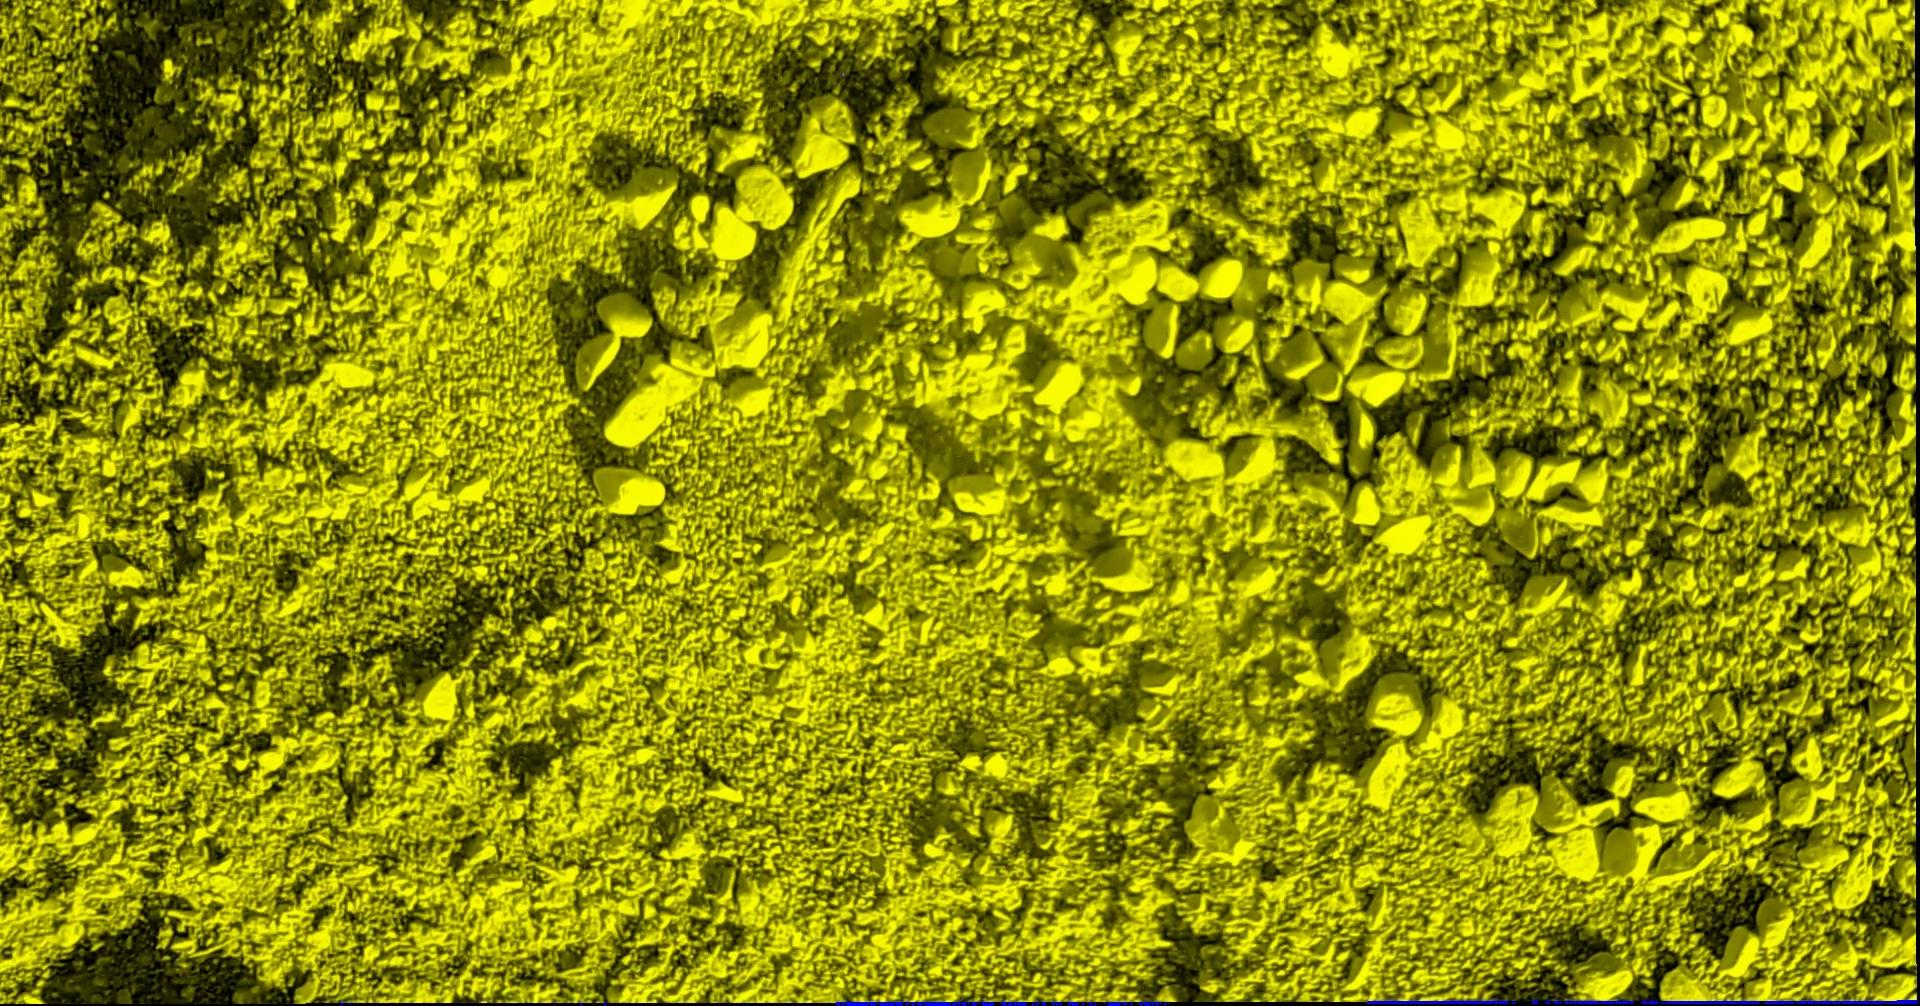ant: (836, 1000, 1098, 1005), (1368, 998, 1517, 1005), (1545, 998, 1636, 1005), (1103, 1000, 1171, 1005)
